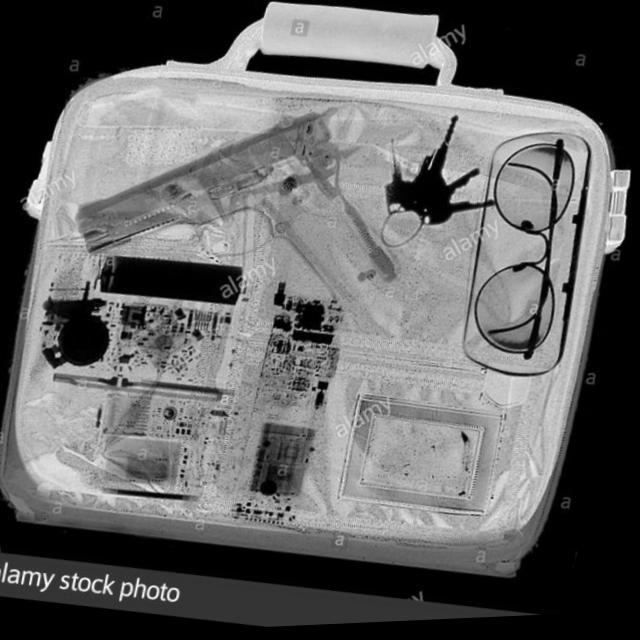weapon: (64, 76, 430, 334)
